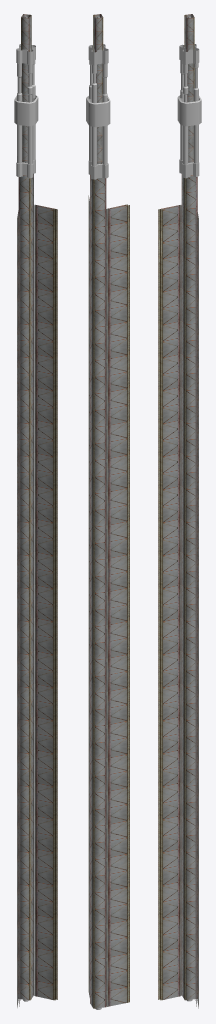
The model's file is EQP_Crane_ControlTowerAll.FBX.
3 views of the same model, side by side, from view 1: azimuth 30°, elevation 25°; view 2: azimuth 150°, elevation 25°; view 3: azimuth 330°, elevation 25° (orthographic).
Visible parts, largest first — view 1: EQP_Crane_ControlTowerGirders, EQP_Crane_ControlTower; view 2: EQP_Crane_ControlTowerGirders, EQP_Crane_ControlTower; view 3: EQP_Crane_ControlTowerGirders, EQP_Crane_ControlTower.
Boxes of the visible parts, box(x1,y1,x2,y2) form: EQP_Crane_ControlTowerGirders: box(17, 14, 57, 1007); EQP_Crane_ControlTower: box(14, 15, 38, 1001); EQP_Crane_ControlTowerGirders: box(88, 14, 129, 1008); EQP_Crane_ControlTower: box(86, 15, 110, 1009); EQP_Crane_ControlTowerGirders: box(158, 14, 198, 1008); EQP_Crane_ControlTower: box(177, 15, 201, 1001).
Bounding box in the file's own units: 442 × 10189 × 321.
